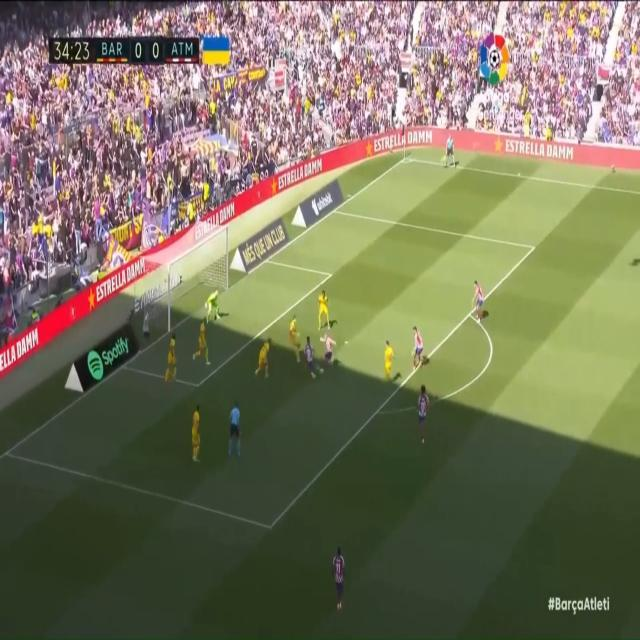ball: (319, 363, 325, 378)
goalkeeper: (200, 282, 226, 332)
player: (330, 539, 355, 628), (191, 403, 209, 478), (413, 376, 430, 454), (377, 334, 399, 389), (254, 328, 273, 388), (473, 267, 490, 331), (319, 282, 337, 339), (287, 309, 304, 369), (304, 326, 320, 386), (411, 314, 426, 375), (162, 332, 178, 388), (194, 314, 209, 373), (141, 301, 154, 361), (323, 334, 340, 374)
referee: (224, 402, 245, 469), (442, 129, 459, 173)
